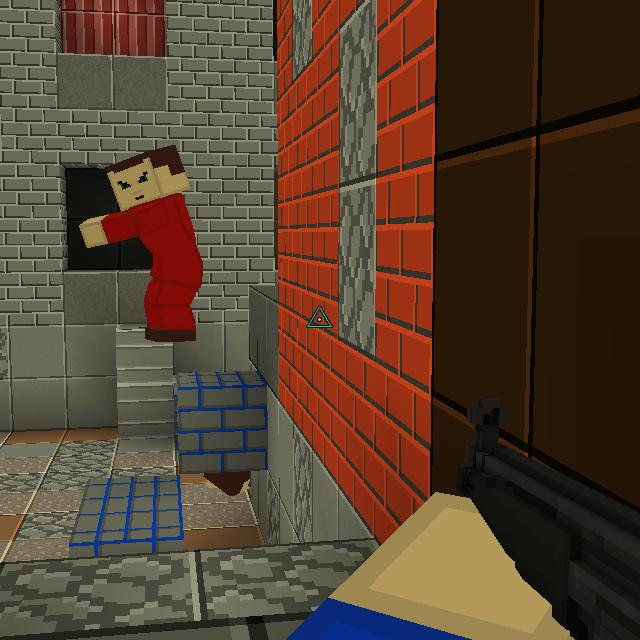enemy: (76, 140, 210, 342)
